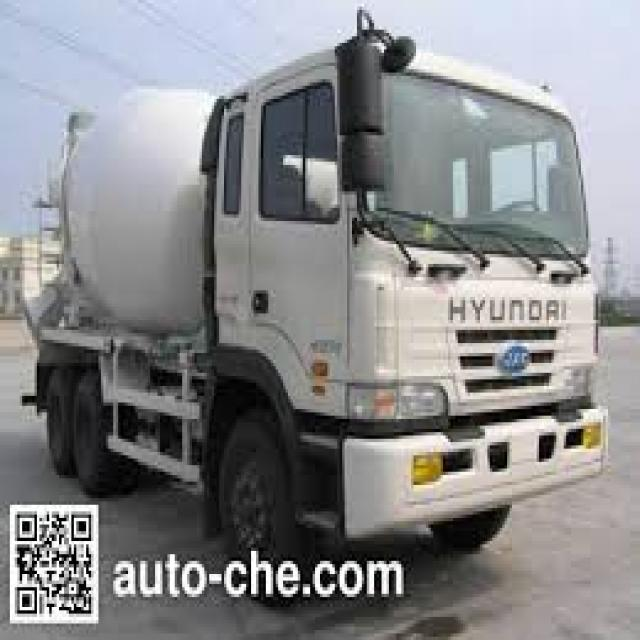Mixer Truck: (21, 6, 611, 598)
